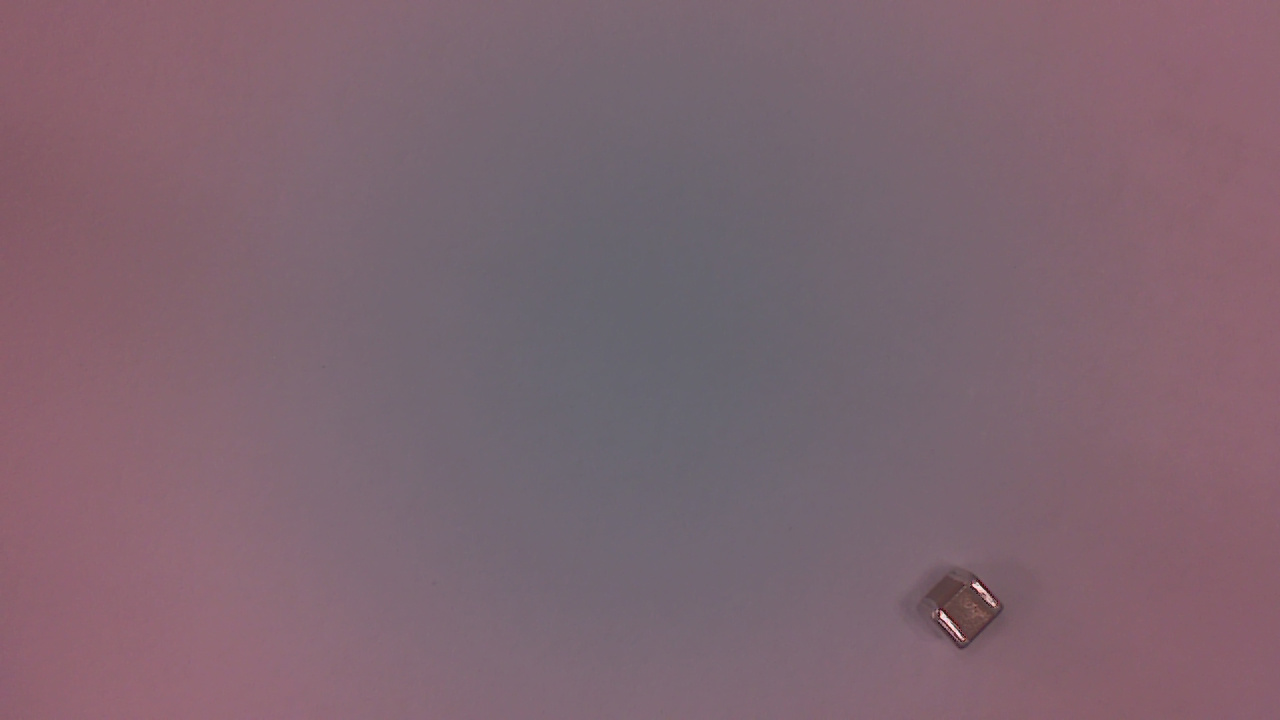Condensator: (921, 570, 1007, 657)
